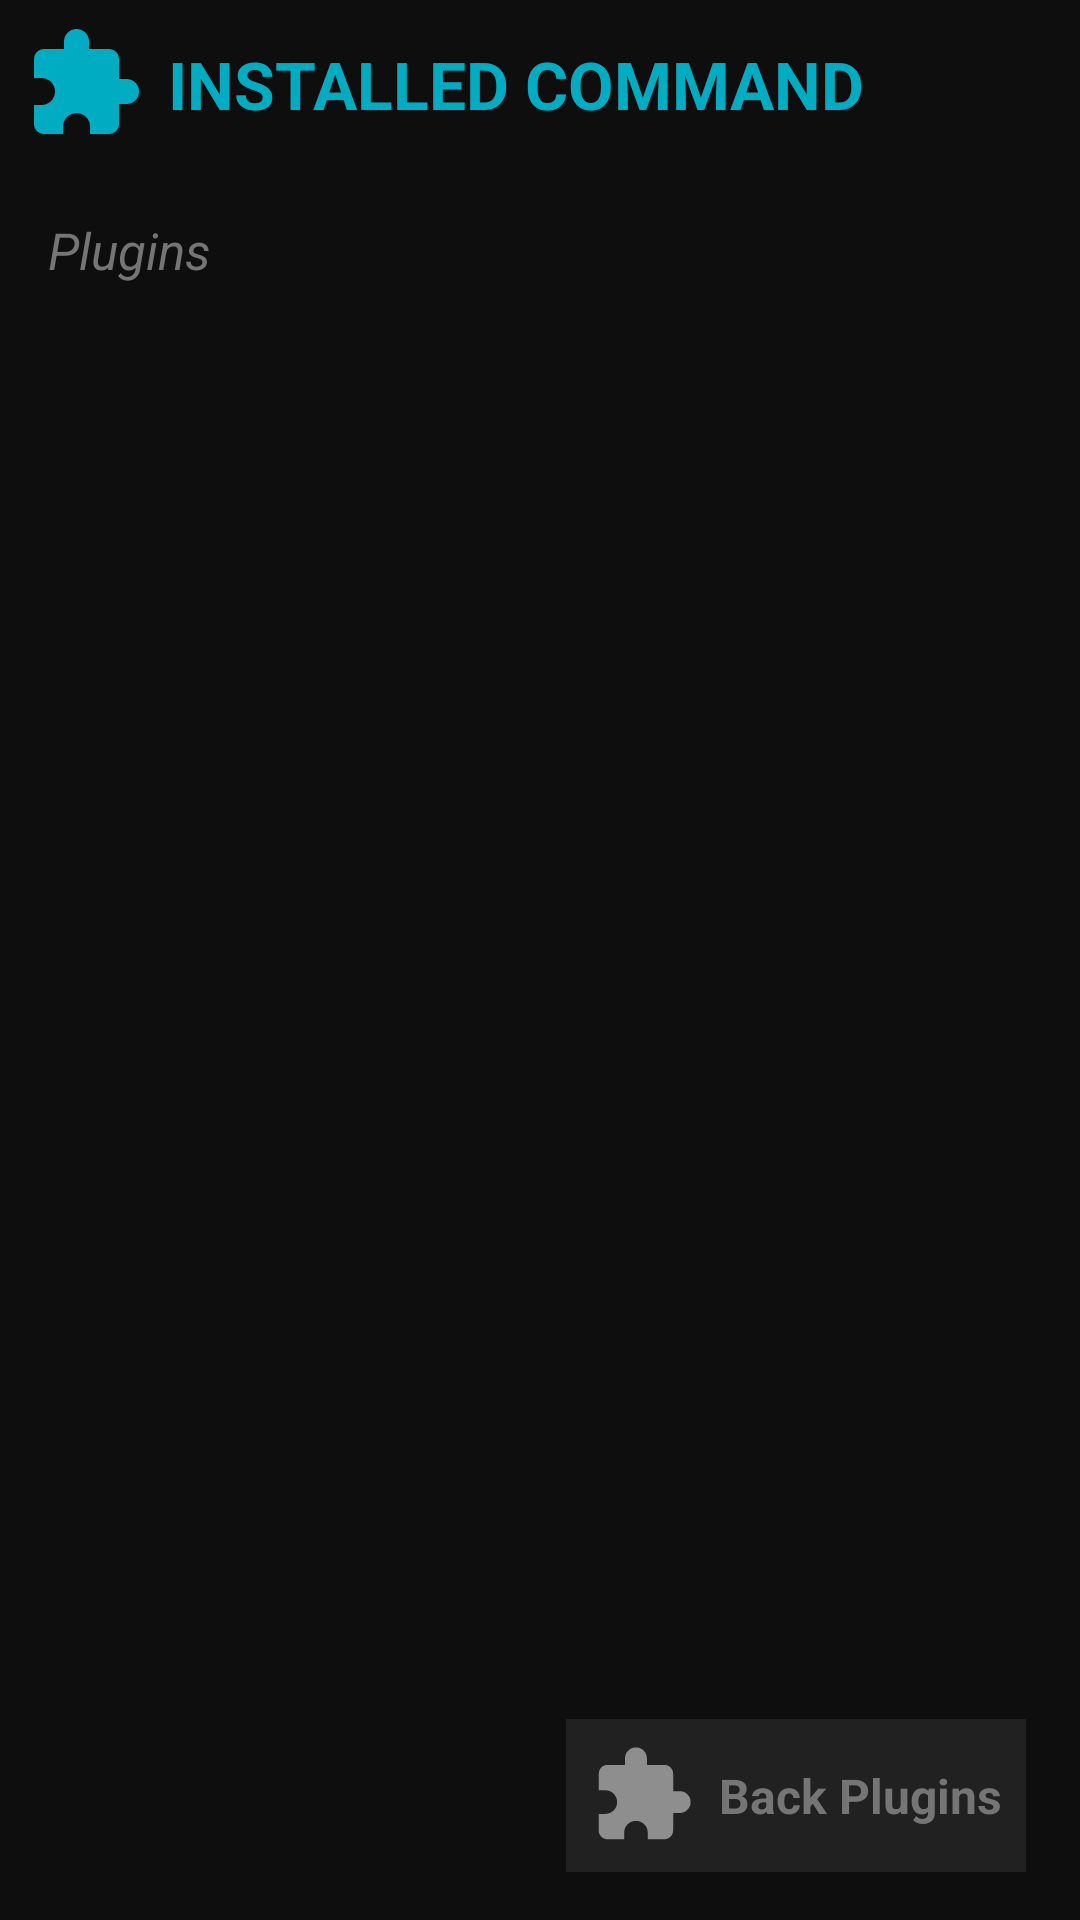

Named icons in this screenshot (1080x1920) and their centers, (x=x, y=y):
extension: (x=86, y=81)
extension round: (x=644, y=1793)
